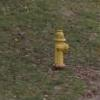Hydrant: (47, 23, 76, 72)
